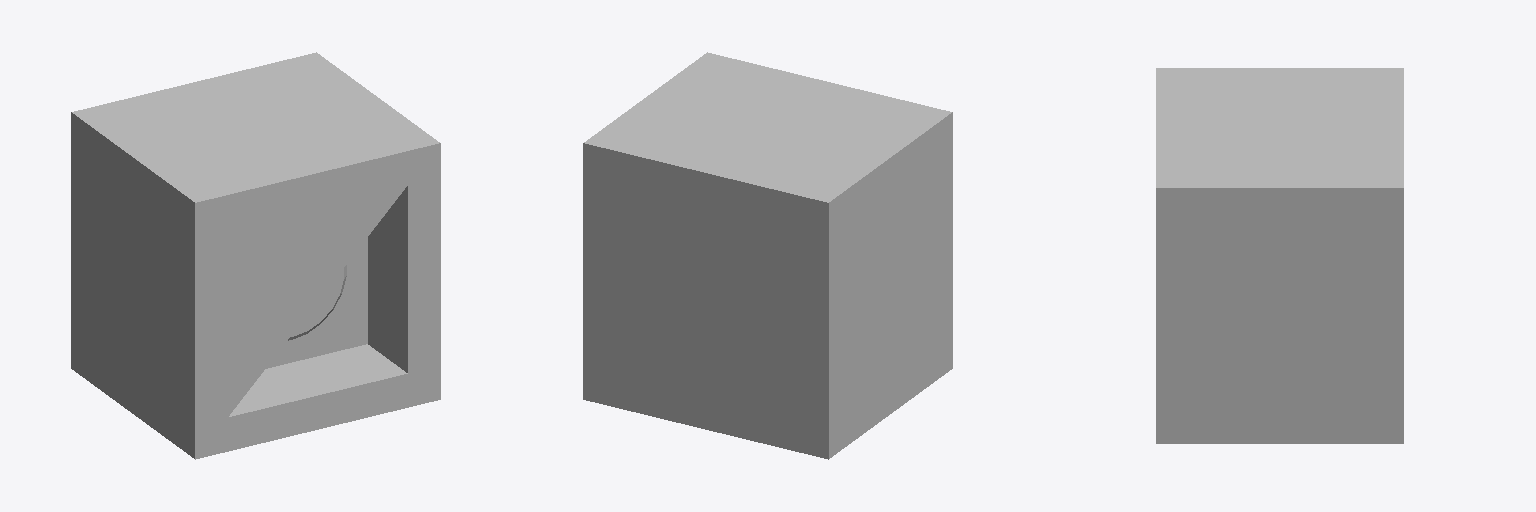
File: Battery_1.obj
3 views of the same model, side by side, from view 1: azimuth 30°, elevation 25°; view 2: azimuth 150°, elevation 25°; view 3: azimuth 270°, elevation 25° (orthographic).
Visible parts, largest first — view 1: Cube.001, Cylinder.001; view 2: Cube.001; view 3: Cube.001.
Boxes of the visible parts, box(x1,y1,x2,y2) form: Cube.001: box(71, 52, 440, 459); Cylinder.001: box(288, 265, 346, 340); Cube.001: box(583, 52, 952, 459); Cube.001: box(1156, 68, 1403, 443).
Bounding box in the file's own units: 3.21 × 3.21 × 2.81.